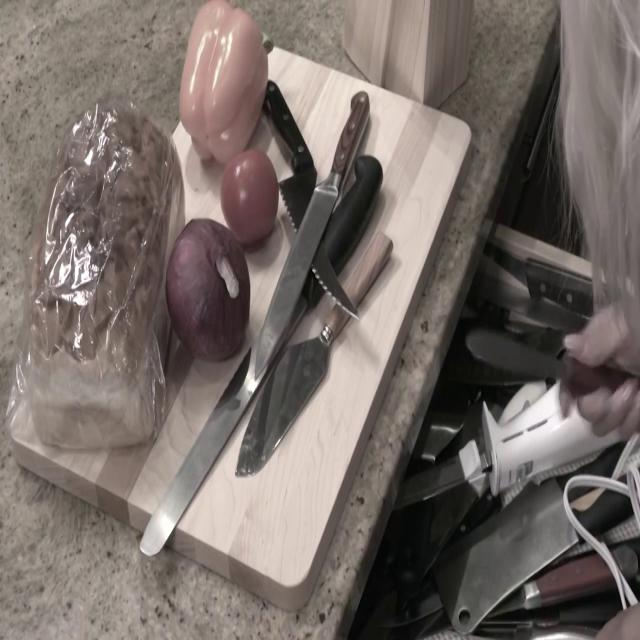Knife: (254, 92, 372, 383), (263, 78, 359, 323)
Knife_Handle: (452, 256, 637, 443)
